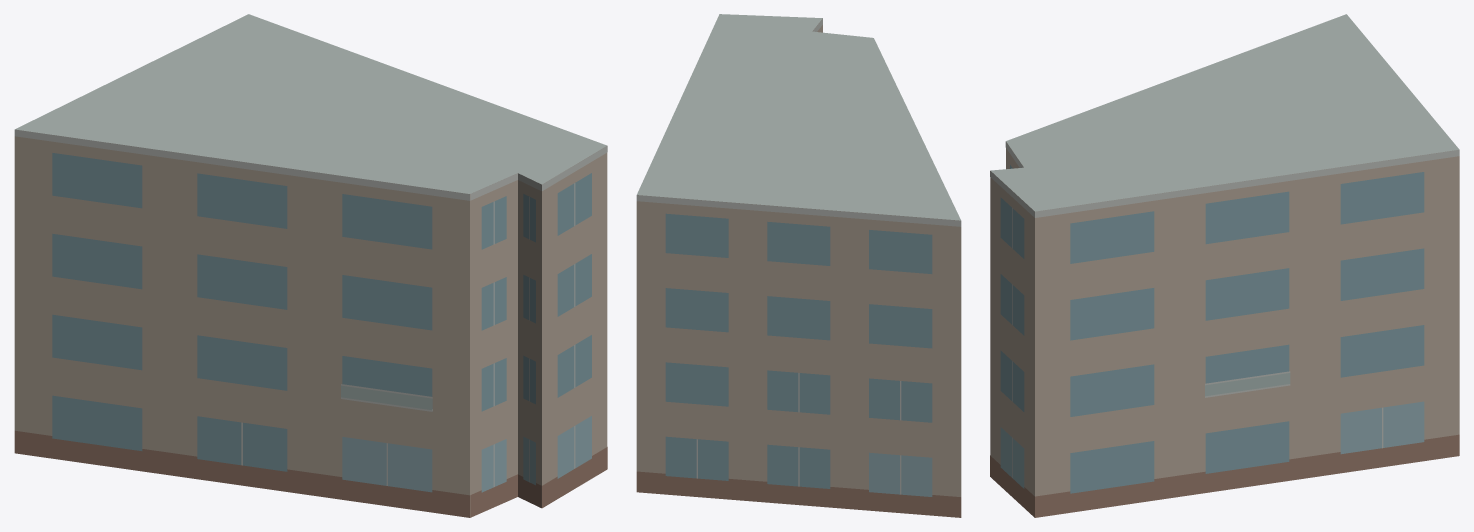
Rendered from survey-upis-32941686.glb.
The picture shows the model from 3 angles, left to right: view 1: azimuth 30°, elevation 25°; view 2: azimuth 150°, elevation 25°; view 3: azimuth 270°, elevation 25°; orthographic projection. The views are drawn at different scales.
Parts seen in each view (by area): view 1: survey-upis-32941686.tmp; view 2: survey-upis-32941686.tmp; view 3: survey-upis-32941686.tmp.
Boxes of the visible parts, x1,y1,x2,y2 form: survey-upis-32941686.tmp: (14, 14, 607, 517); survey-upis-32941686.tmp: (636, 14, 961, 517); survey-upis-32941686.tmp: (990, 14, 1459, 517).
Bounding box in the file's own units: 16.06 × 11.6 × 16.12.
